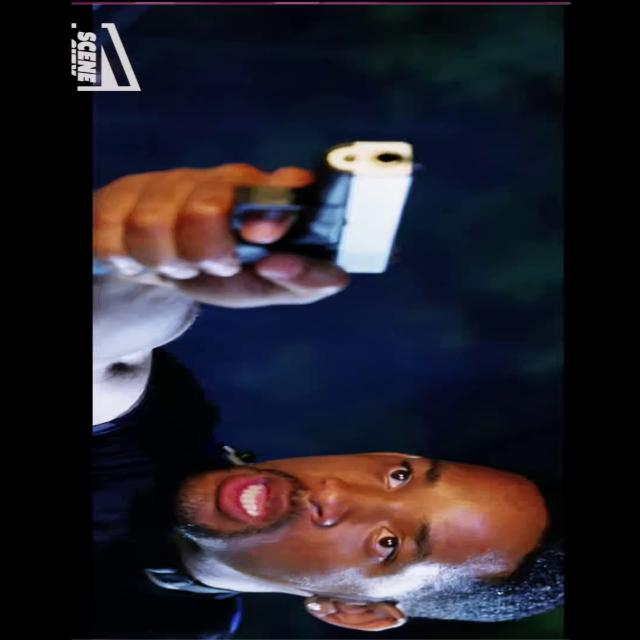weapons: (157, 132, 446, 304)
